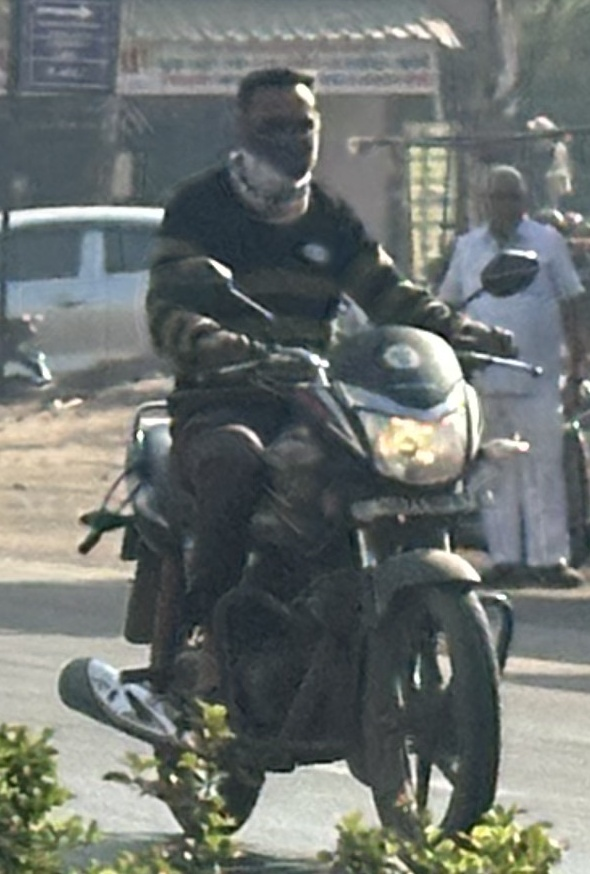BikeWithRider: (48, 53, 554, 870)
NoHelmet: (207, 56, 342, 212)
